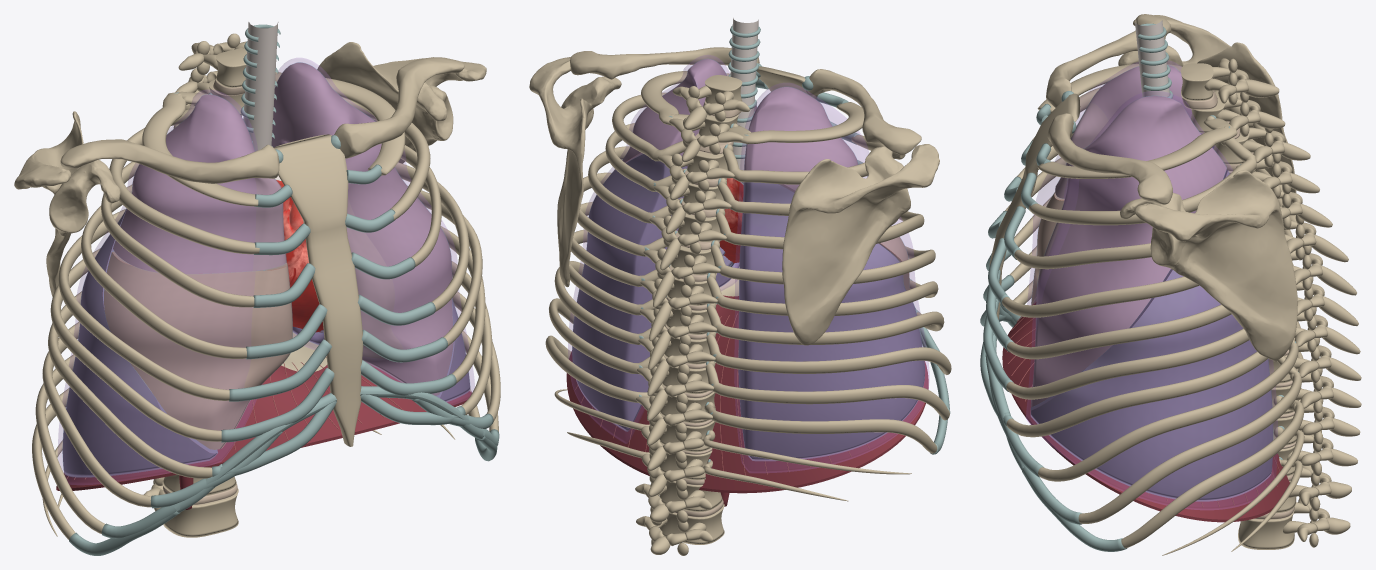
Rendered from pleura-duas-camadas.glb.
3 views of the same model, side by side, from view 1: azimuth 30°, elevation 25°; view 2: azimuth 150°, elevation 25°; view 3: azimuth 270°, elevation 25° (orthographic). The views are drawn at different scales.
Visible parts, largest first — view 1: lobo_superior_E, lobo_medio_D, pleura_visceral_lobo_superior_E, pleura_visceral_lobo_medio_D, lobo_superior_D, pleura_visceral_lobo_superior_D, caixa_toracica_osso, lobo_inferior_D, pleura_visceral_lobo_inferior_D, diafragma_diafragma, coluna_osso, escapula_D (+46 smaller); view 2: coluna_osso, lobo_inferior_D, pleura_visceral_lobo_inferior_D, escapula_D, lobo_inferior_E, pleura_visceral_lobo_inferior_E, diafragma_diafragma, escapula_E, lobo_superior_D, pleura_visceral_lobo_superior_D, pleura_parietal_D, costela_articulada_D_9_osso (+32 smaller); view 3: coluna_osso, lobo_inferior_E, pleura_visceral_lobo_inferior_E, lobo_superior_E, pleura_visceral_lobo_superior_E, escapula_E, diafragma_diafragma, pleura_parietal_E, costela_articulada_E_8_osso, escapula_D, costela_articulada_E_7_osso, costela_articulada_E_9_osso (+28 smaller).
Boxes of the visible parts, x1,y1,x2,y2 form: lobo_superior_E: [271, 62, 453, 395]; lobo_medio_D: [104, 251, 292, 449]; pleura_visceral_lobo_superior_E: [272, 62, 453, 395]; pleura_visceral_lobo_medio_D: [104, 251, 292, 449]; lobo_superior_D: [113, 94, 286, 273]; pleura_visceral_lobo_superior_D: [113, 94, 286, 273]; caixa_toracica_osso: [274, 134, 363, 446]; lobo_inferior_D: [62, 209, 217, 477]; pleura_visceral_lobo_inferior_D: [62, 214, 217, 477]; diafragma_diafragma: [56, 363, 471, 509]; coluna_osso: [143, 33, 246, 537]; escapula_D: [14, 111, 120, 296]; coluna_osso: [635, 75, 749, 555]; lobo_inferior_D: [738, 182, 924, 461]; pleura_visceral_lobo_inferior_D: [738, 183, 924, 459]; escapula_D: [782, 144, 939, 345]; lobo_inferior_E: [572, 154, 739, 431]; pleura_visceral_lobo_inferior_E: [572, 154, 734, 429]; diafragma_diafragma: [566, 295, 928, 506]; escapula_E: [529, 57, 621, 287]; lobo_superior_D: [744, 87, 857, 192]; pleura_visceral_lobo_superior_D: [744, 87, 857, 191]; pleura_parietal_D: [734, 83, 929, 472]; costela_articulada_D_9_osso: [705, 361, 949, 420]; coluna_osso: [1181, 58, 1361, 549]; lobo_inferior_E: [1030, 170, 1272, 501]; pleura_visceral_lobo_inferior_E: [1031, 171, 1273, 499]; lobo_superior_E: [1031, 96, 1226, 407]; pleura_visceral_lobo_superior_E: [1031, 96, 1226, 406]; escapula_E: [1120, 170, 1297, 360]; diafragma_diafragma: [1002, 302, 1289, 522]; pleura_parietal_E: [1026, 91, 1277, 509]; costela_articulada_E_8_osso: [1038, 339, 1298, 481]; escapula_D: [1118, 15, 1296, 203]; costela_articulada_E_7_osso: [1006, 351, 1267, 437]; costela_articulada_E_9_osso: [1078, 356, 1301, 523].
Size of the model in its own units: 0.3052 by 0.3483 by 0.231.
Materials: 15 (1 with a texture image).
